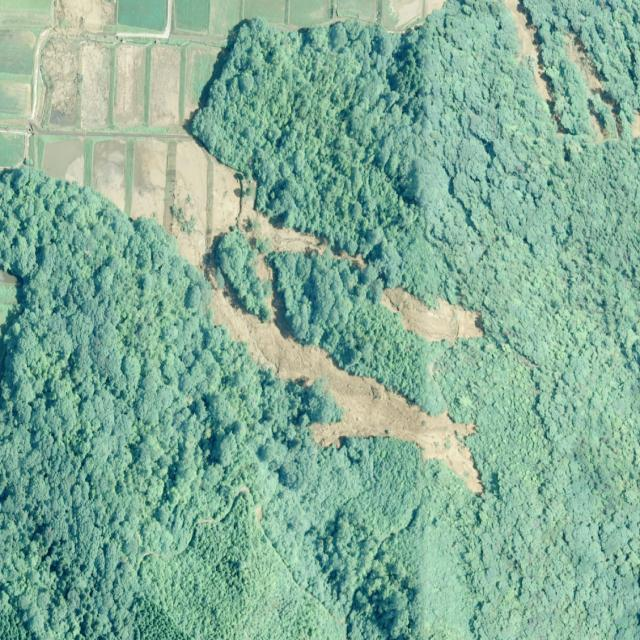landslide: (213, 286, 483, 494), (317, 366, 482, 494), (382, 288, 483, 343), (238, 196, 326, 255), (505, 0, 553, 101)
